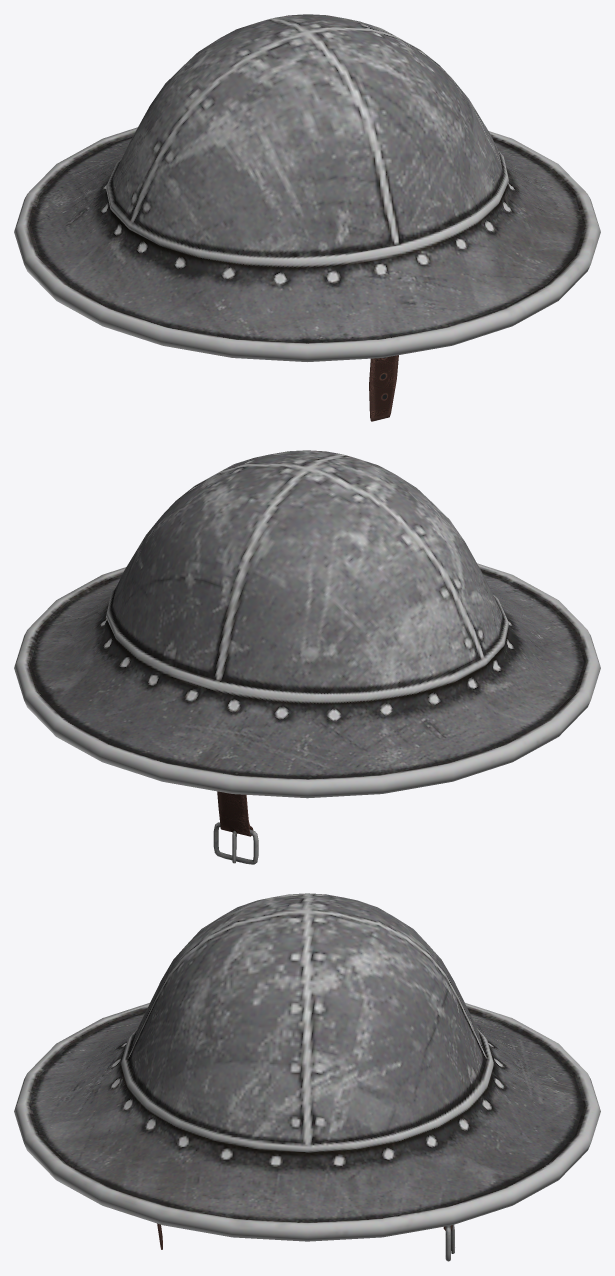
The model's file is Chapelle_01.fbx.
The picture shows the model from 3 angles, top to bottom: view 1: azimuth 30°, elevation 25°; view 2: azimuth 150°, elevation 25°; view 3: azimuth 270°, elevation 25°; orthographic projection.
Parts seen in each view (by area): view 1: Chapelle_01_LOD0; view 2: Chapelle_01_LOD0; view 3: Chapelle_01_LOD0.
Boxes of the visible parts, <box> form: Chapelle_01_LOD0: <box>14,14,600,421</box>; Chapelle_01_LOD0: <box>14,450,600,864</box>; Chapelle_01_LOD0: <box>14,893,600,1261</box>.
Size of what is drawn, in the model's own units: 33.28 by 21.35 by 33.28.
